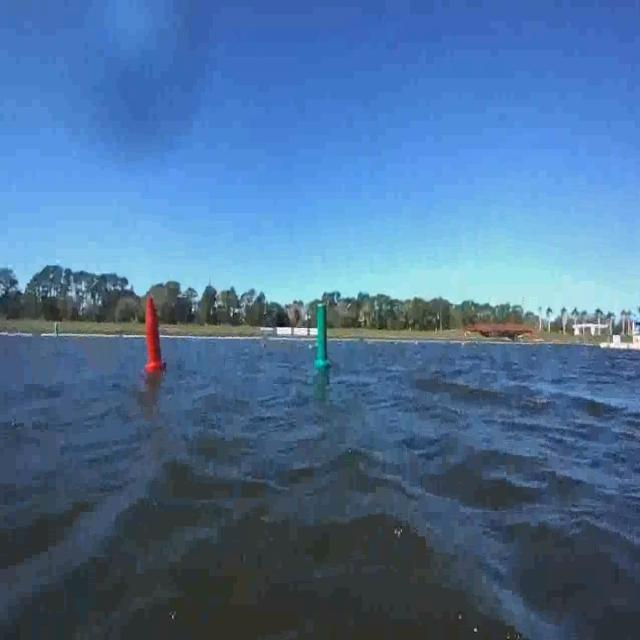green-column-buoy: (313, 304, 332, 370)
red-column-buoy: (143, 296, 166, 374)
